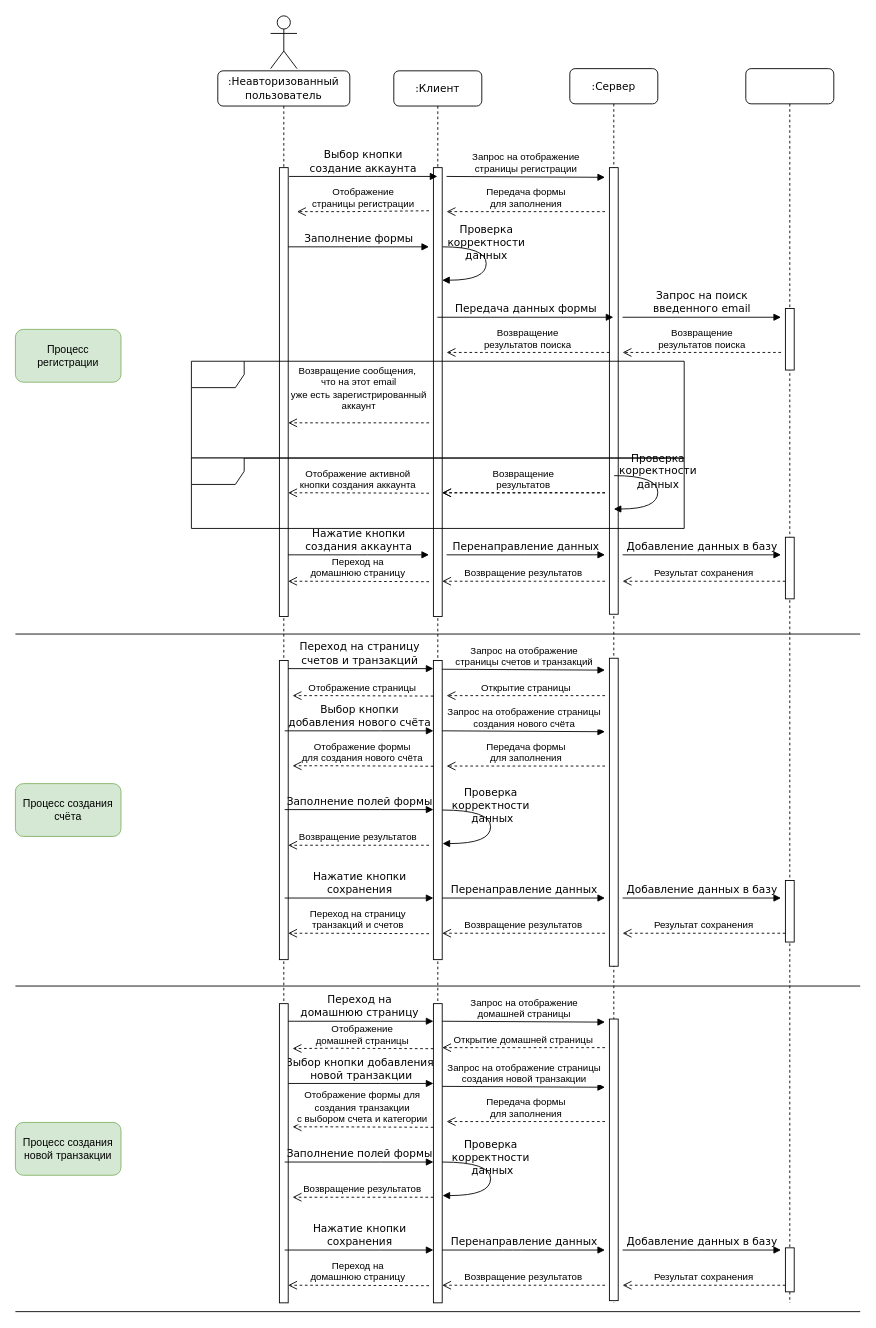
The diagram is 876 pixels wide and 1328 high, and some of its shapes have lost their labels. Here are the shapes that lost their labels. From the top down, the box of each, then its label:
(191, 360, 684, 458): email найден
(191, 457, 684, 528): иначе
(745, 68, 834, 1303): :База данных
